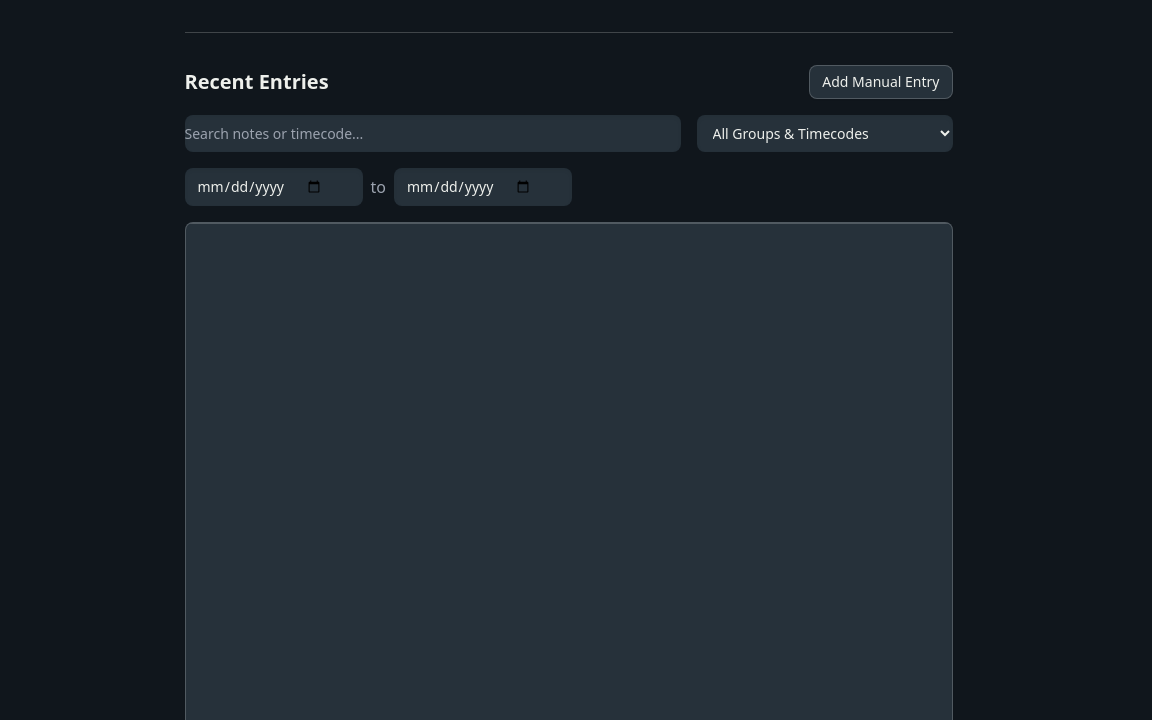
Scenario: every surface answers "how much time this week" with the same number › entry list totals the same hour, running timer included
// A filter has to be active before the list offers its total.
Type "billable" into the field with placeholder "Search notes or timecode..." at (432, 134), box top-left (184, 115), bottom-right (680, 152)
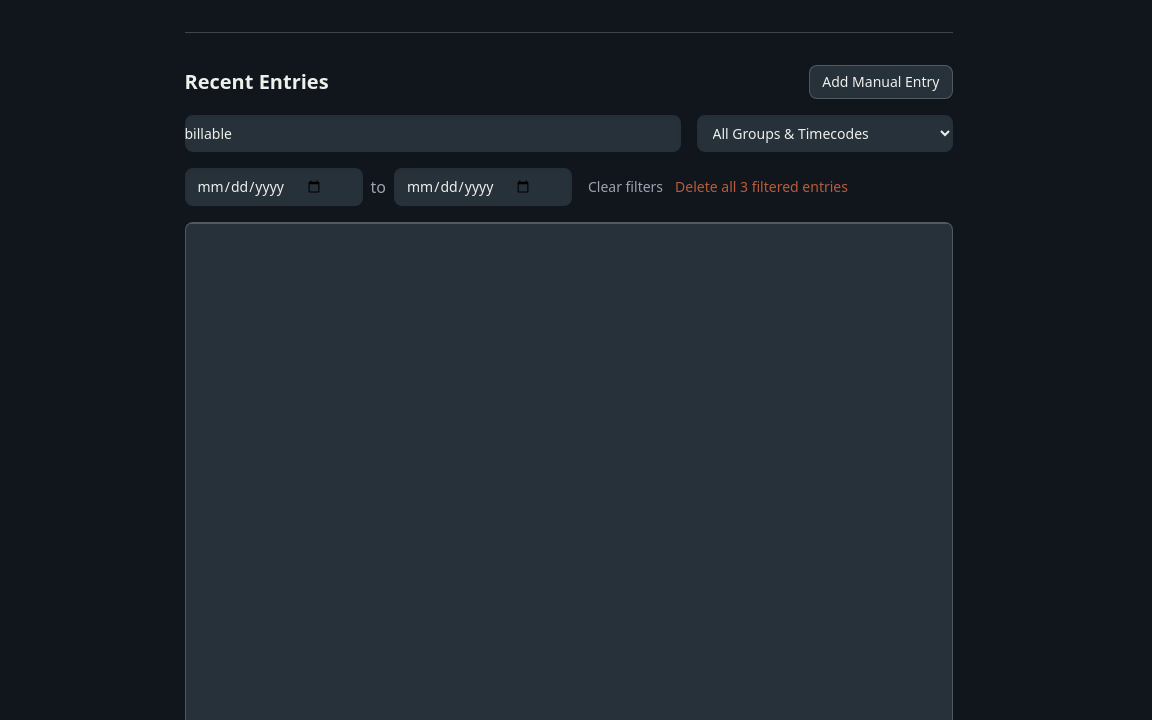
Click the button "Delete all 3 filtered entries" at (762, 187), box top-left (675, 177), bottom-right (848, 197)
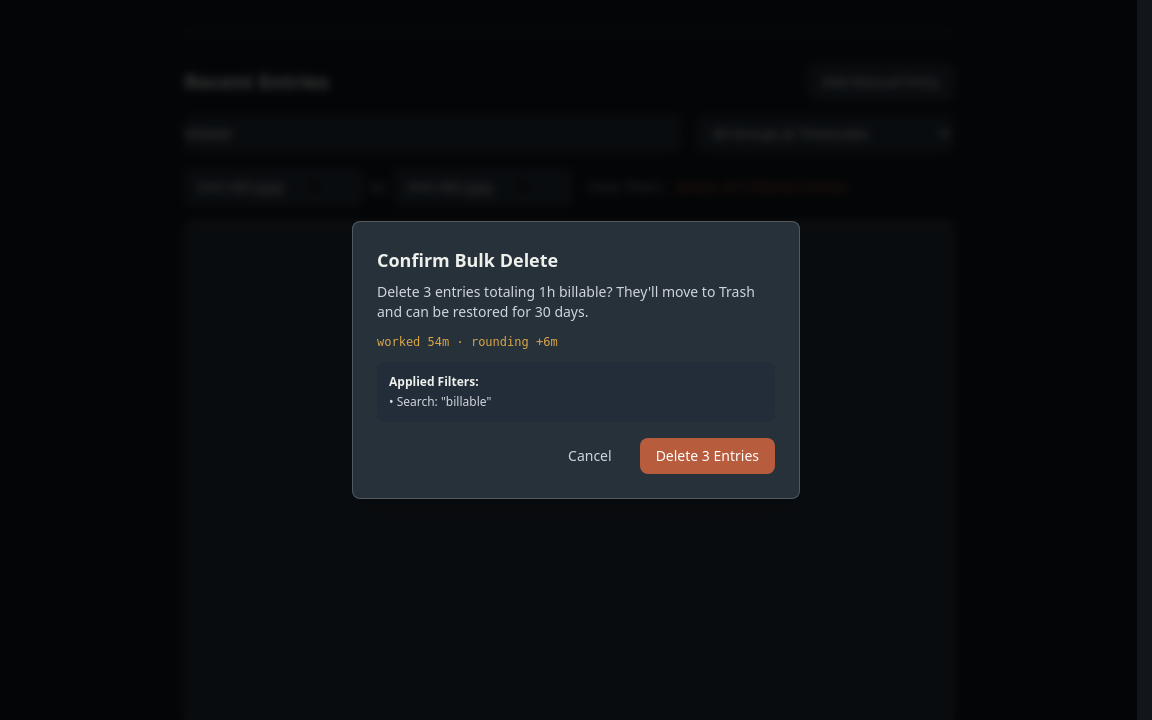
Expected: the text "totaling 1h" is shown, top-left (377, 282), bottom-right (775, 322)
